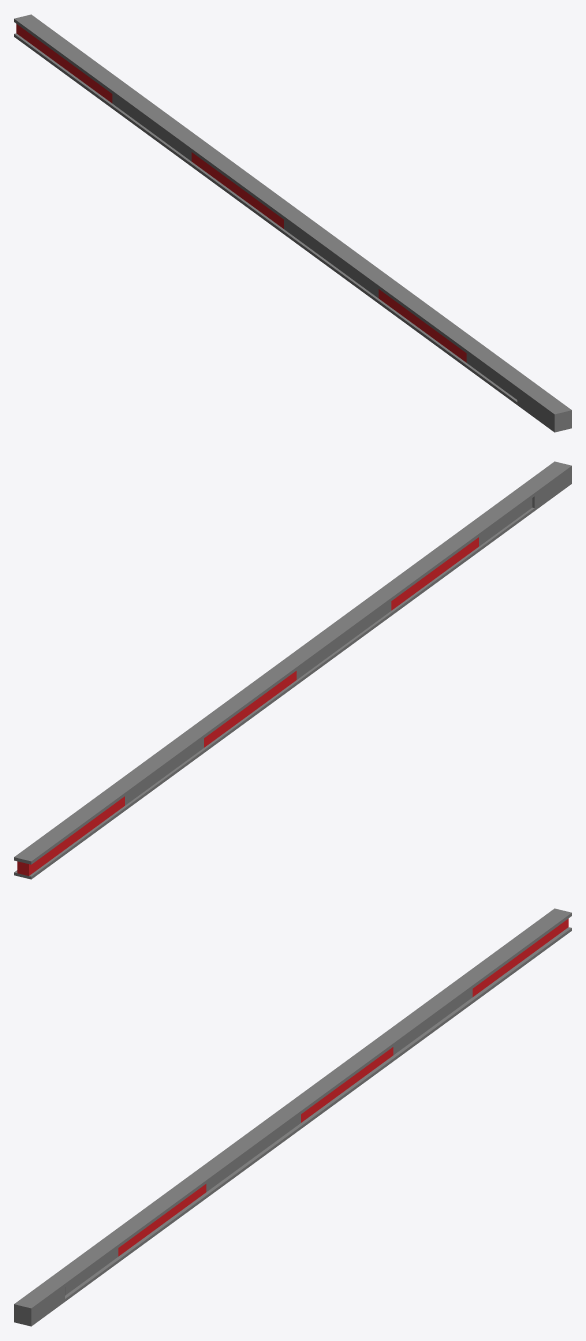
File: CancelaBarramento.fbx
3 renders of one model, top to bottom at view 1: azimuth 30°, elevation 25°; view 2: azimuth 150°, elevation 25°; view 3: azimuth 330°, elevation 25°, orthographic.
Parts seen in each view (by area): view 1: CancelaPorta; view 2: CancelaPorta; view 3: CancelaPorta.
Boxes of the visible parts, bbox=[...] form: CancelaPorta: bbox=[14, 14, 571, 432]; CancelaPorta: bbox=[14, 461, 571, 879]; CancelaPorta: bbox=[14, 908, 571, 1326].
Bounding box in the file's own units: 5.86 × 5.86 × 316.
